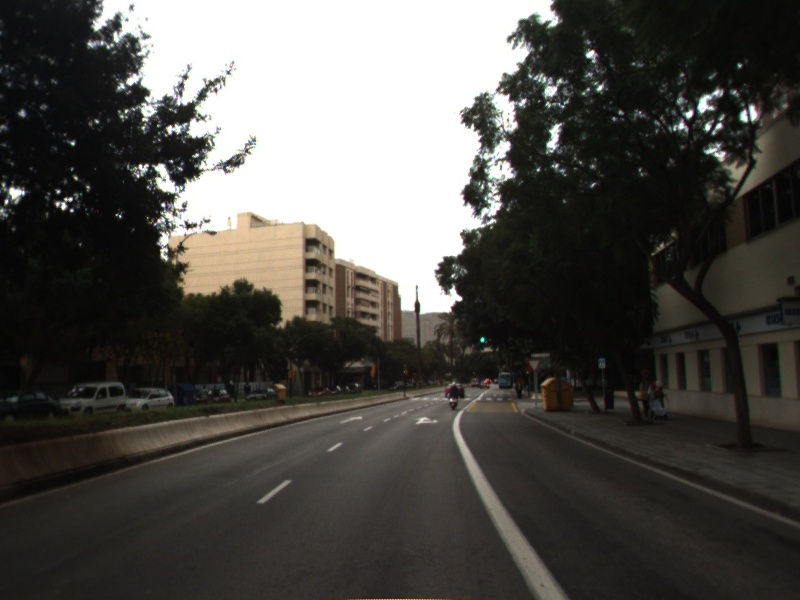STRAIGHT: (338, 413, 365, 425)
STRAIGHT_RIGHT: (412, 415, 441, 427)
